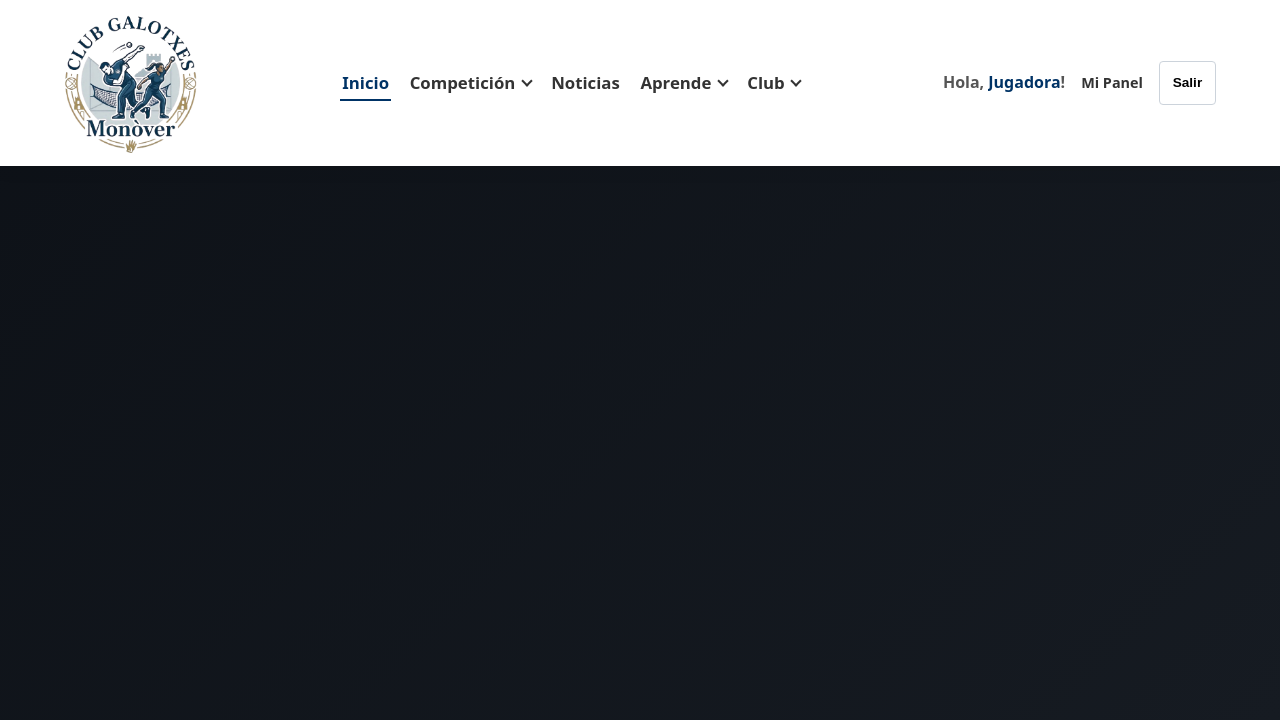
Navbar › account area and session restoration › keeps the account UI authenticated and shows an accessible error when logout is not confirmed
Step 1. Click the button "Salir" → {"x": 1187, "y": 83}, box top-left (1159, 61), bottom-right (1216, 105)
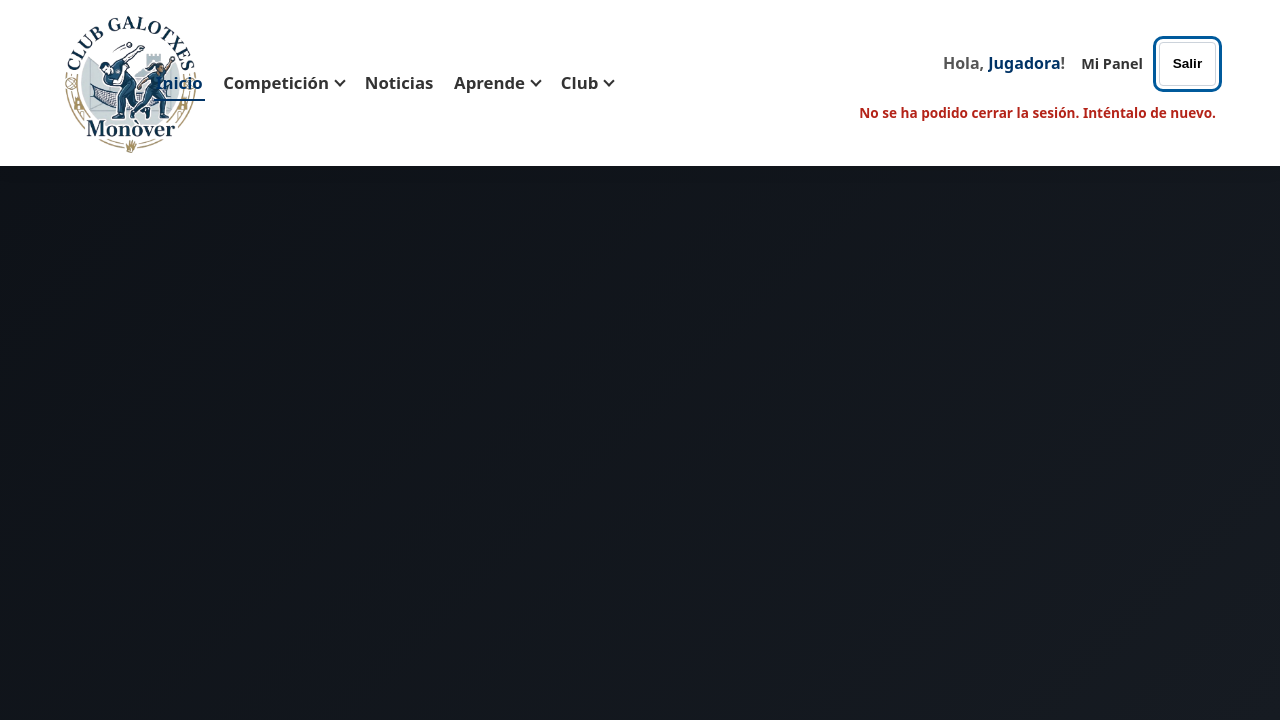
Expected: the link "Mi Panel" is shown, top-left (1081, 54), bottom-right (1143, 73)
Expected: the message reads "No se ha podido cerrar la sesión. Inténtalo de nuevo.", top-left (859, 103), bottom-right (1216, 122)
Step 2. Click the button "Salir" → {"x": 1187, "y": 64}, box top-left (1159, 42), bottom-right (1216, 86)
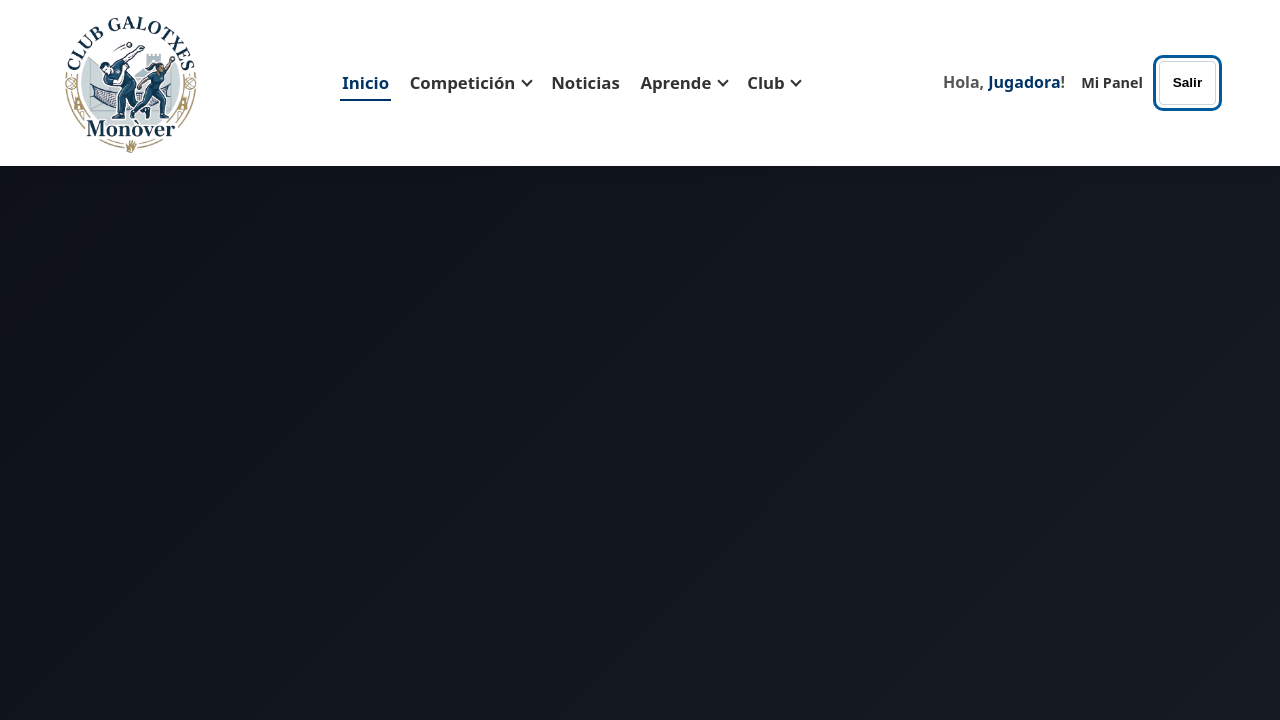
Expected: the message "No se ha podido cerrar la sesión. Inténtalo de nuevo." is gone
